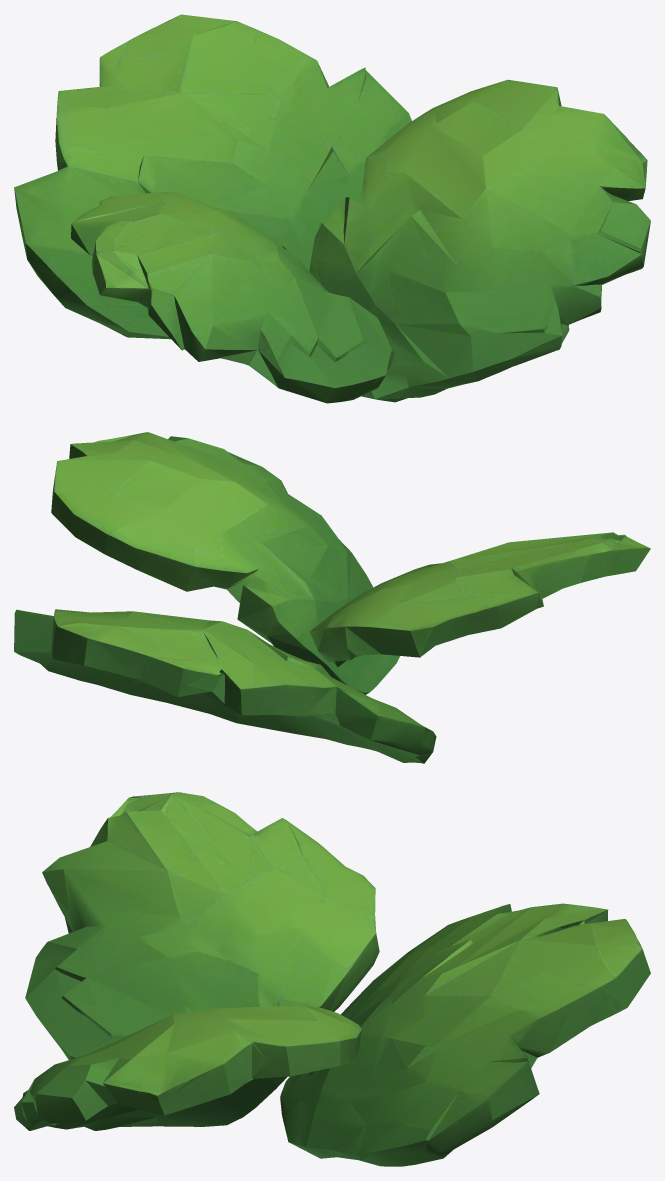
Rendered from bush.glb.
3 views of the same model, one above another, from view 1: azimuth 30°, elevation 25°; view 2: azimuth 150°, elevation 25°; view 3: azimuth 270°, elevation 25° (orthographic). The views are drawn at different scales.
Parts seen in each view (by area): view 1: nature-bush-fit; view 2: nature-bush-fit; view 3: nature-bush-fit.
Boxes of the visible parts, left/top/right/bottom form: nature-bush-fit: left=14, top=14, right=650, bottom=403; nature-bush-fit: left=14, top=432, right=650, bottom=763; nature-bush-fit: left=14, top=792, right=650, bottom=1166.
Size of the model in its own units: 2.19 by 0.7803 by 2.11.
1 material, 1 textured.
